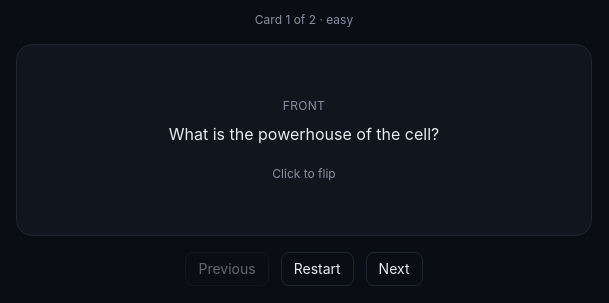
Test case: next/previous navigate between cards
Click the button "Next". click: (394, 269)
box: [366,252,422,286]
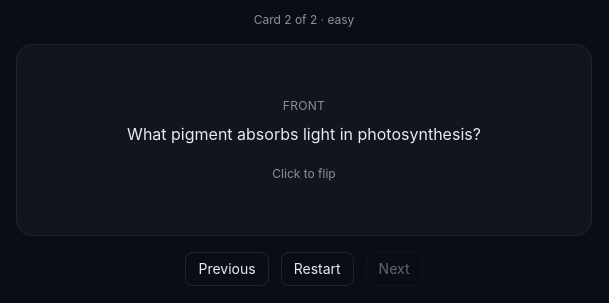
Now the text "What pigment absorbs light in photosynthesis?" is shown, box [127,122,481,146]
Click the button "Previous". click: (227, 269)
box: [186,252,269,286]
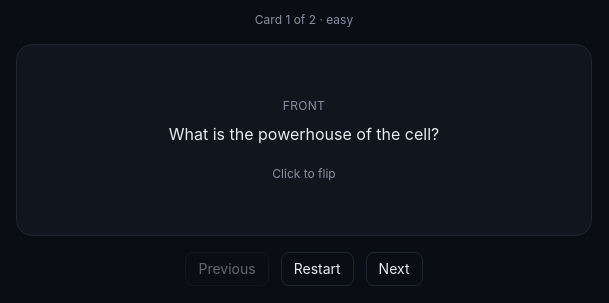
Now the text "What is the powerhouse of the cell?" is shown, box [169,122,439,146]
